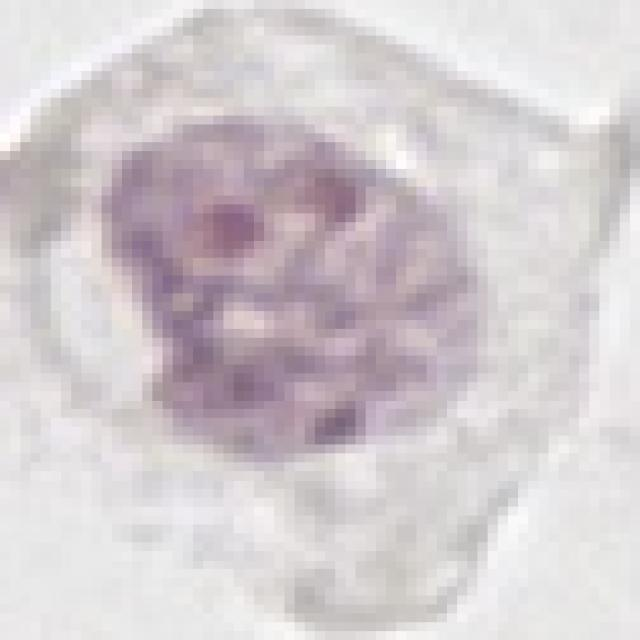nucleus: (93, 88, 504, 489)
